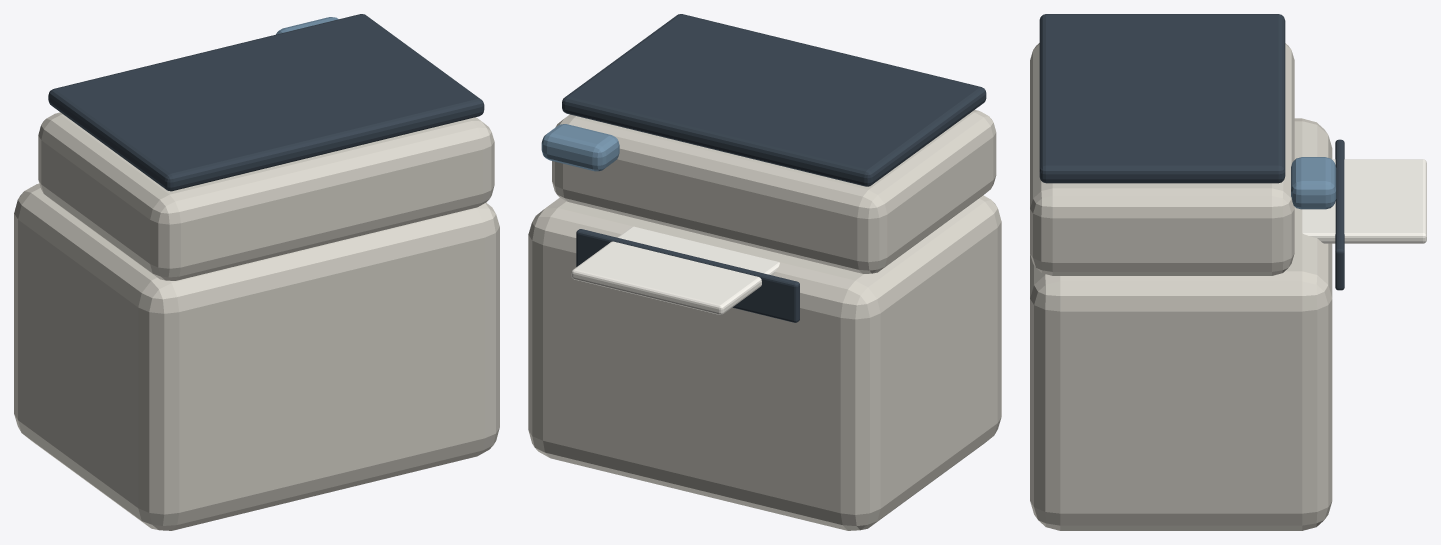
The model's file is printer.glb.
3 views of the same model, side by side, from view 1: azimuth 30°, elevation 25°; view 2: azimuth 150°, elevation 25°; view 3: azimuth 270°, elevation 25° (orthographic). The views are drawn at different scales.
Parts seen in each view (by area): view 1: printer; view 2: printer; view 3: printer.
Boxes of the visible parts, x1=… form: printer: x1=14, y1=14, x2=499, y2=530; printer: x1=528, y1=14, x2=1001, y2=530; printer: x1=1030, y1=14, x2=1426, y2=530.
Size of the model in its own units: 1.1 by 1.06 by 1.05.
